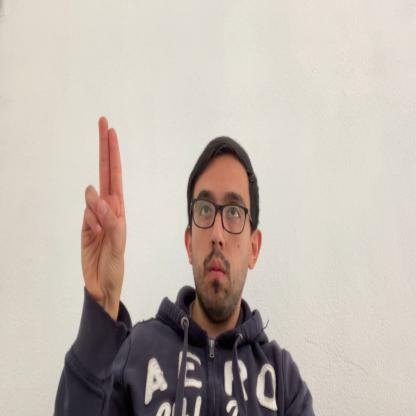U: (81, 117, 127, 309)
